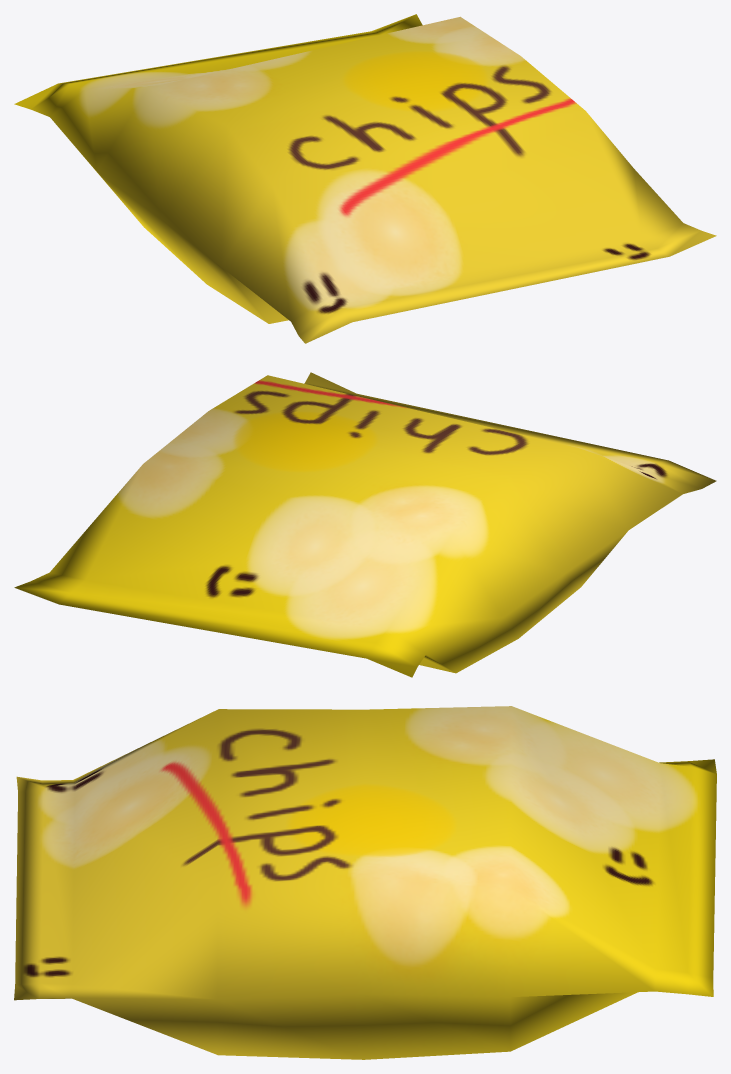
Rendered from item_chips.fbx.
3 views of the same model, one above another, from view 1: azimuth 30°, elevation 25°; view 2: azimuth 150°, elevation 25°; view 3: azimuth 270°, elevation 25° (orthographic). The views are drawn at different scales.
Parts seen in each view (by area): view 1: chips; view 2: chips; view 3: chips.
Part boxes in pixels (box(x1,y1,x2,y2)): chips: box(14, 14, 716, 343); chips: box(14, 372, 716, 677); chips: box(14, 706, 716, 1059).
Size of the model in its own units: 185 by 66.34 by 233.
